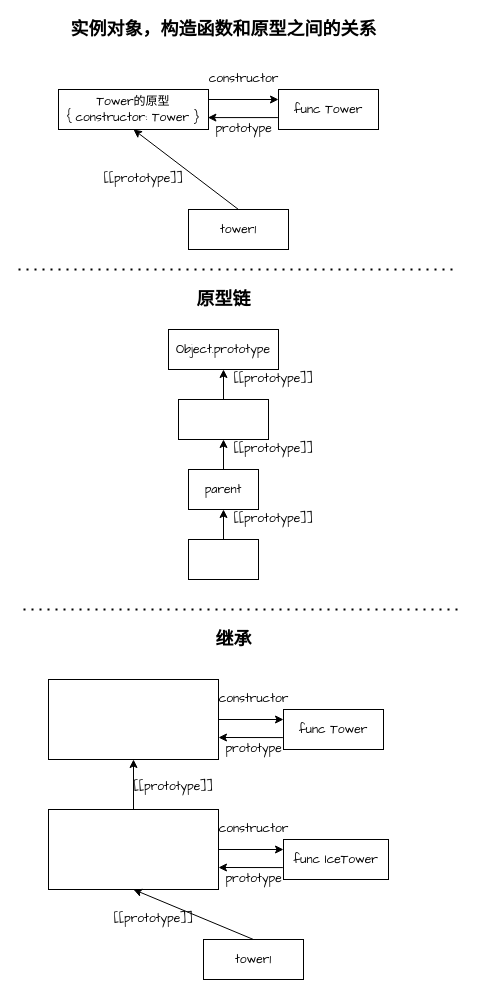
Image size: 482x997. Some labels were removed from this diagram. Each missing label, with the box of its shape:
child: (188, 538, 258, 580)
grandparent: (178, 398, 268, 440)
{ constructor: IceTower, freeze: f() }: (48, 808, 218, 890)
{ constructor: Tower, fire: f() }: (48, 678, 218, 760)
